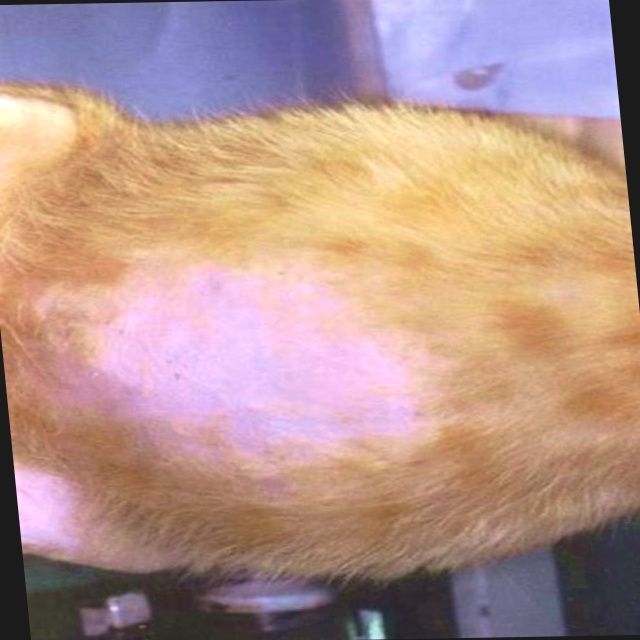hairloss: (78, 263, 444, 438)
